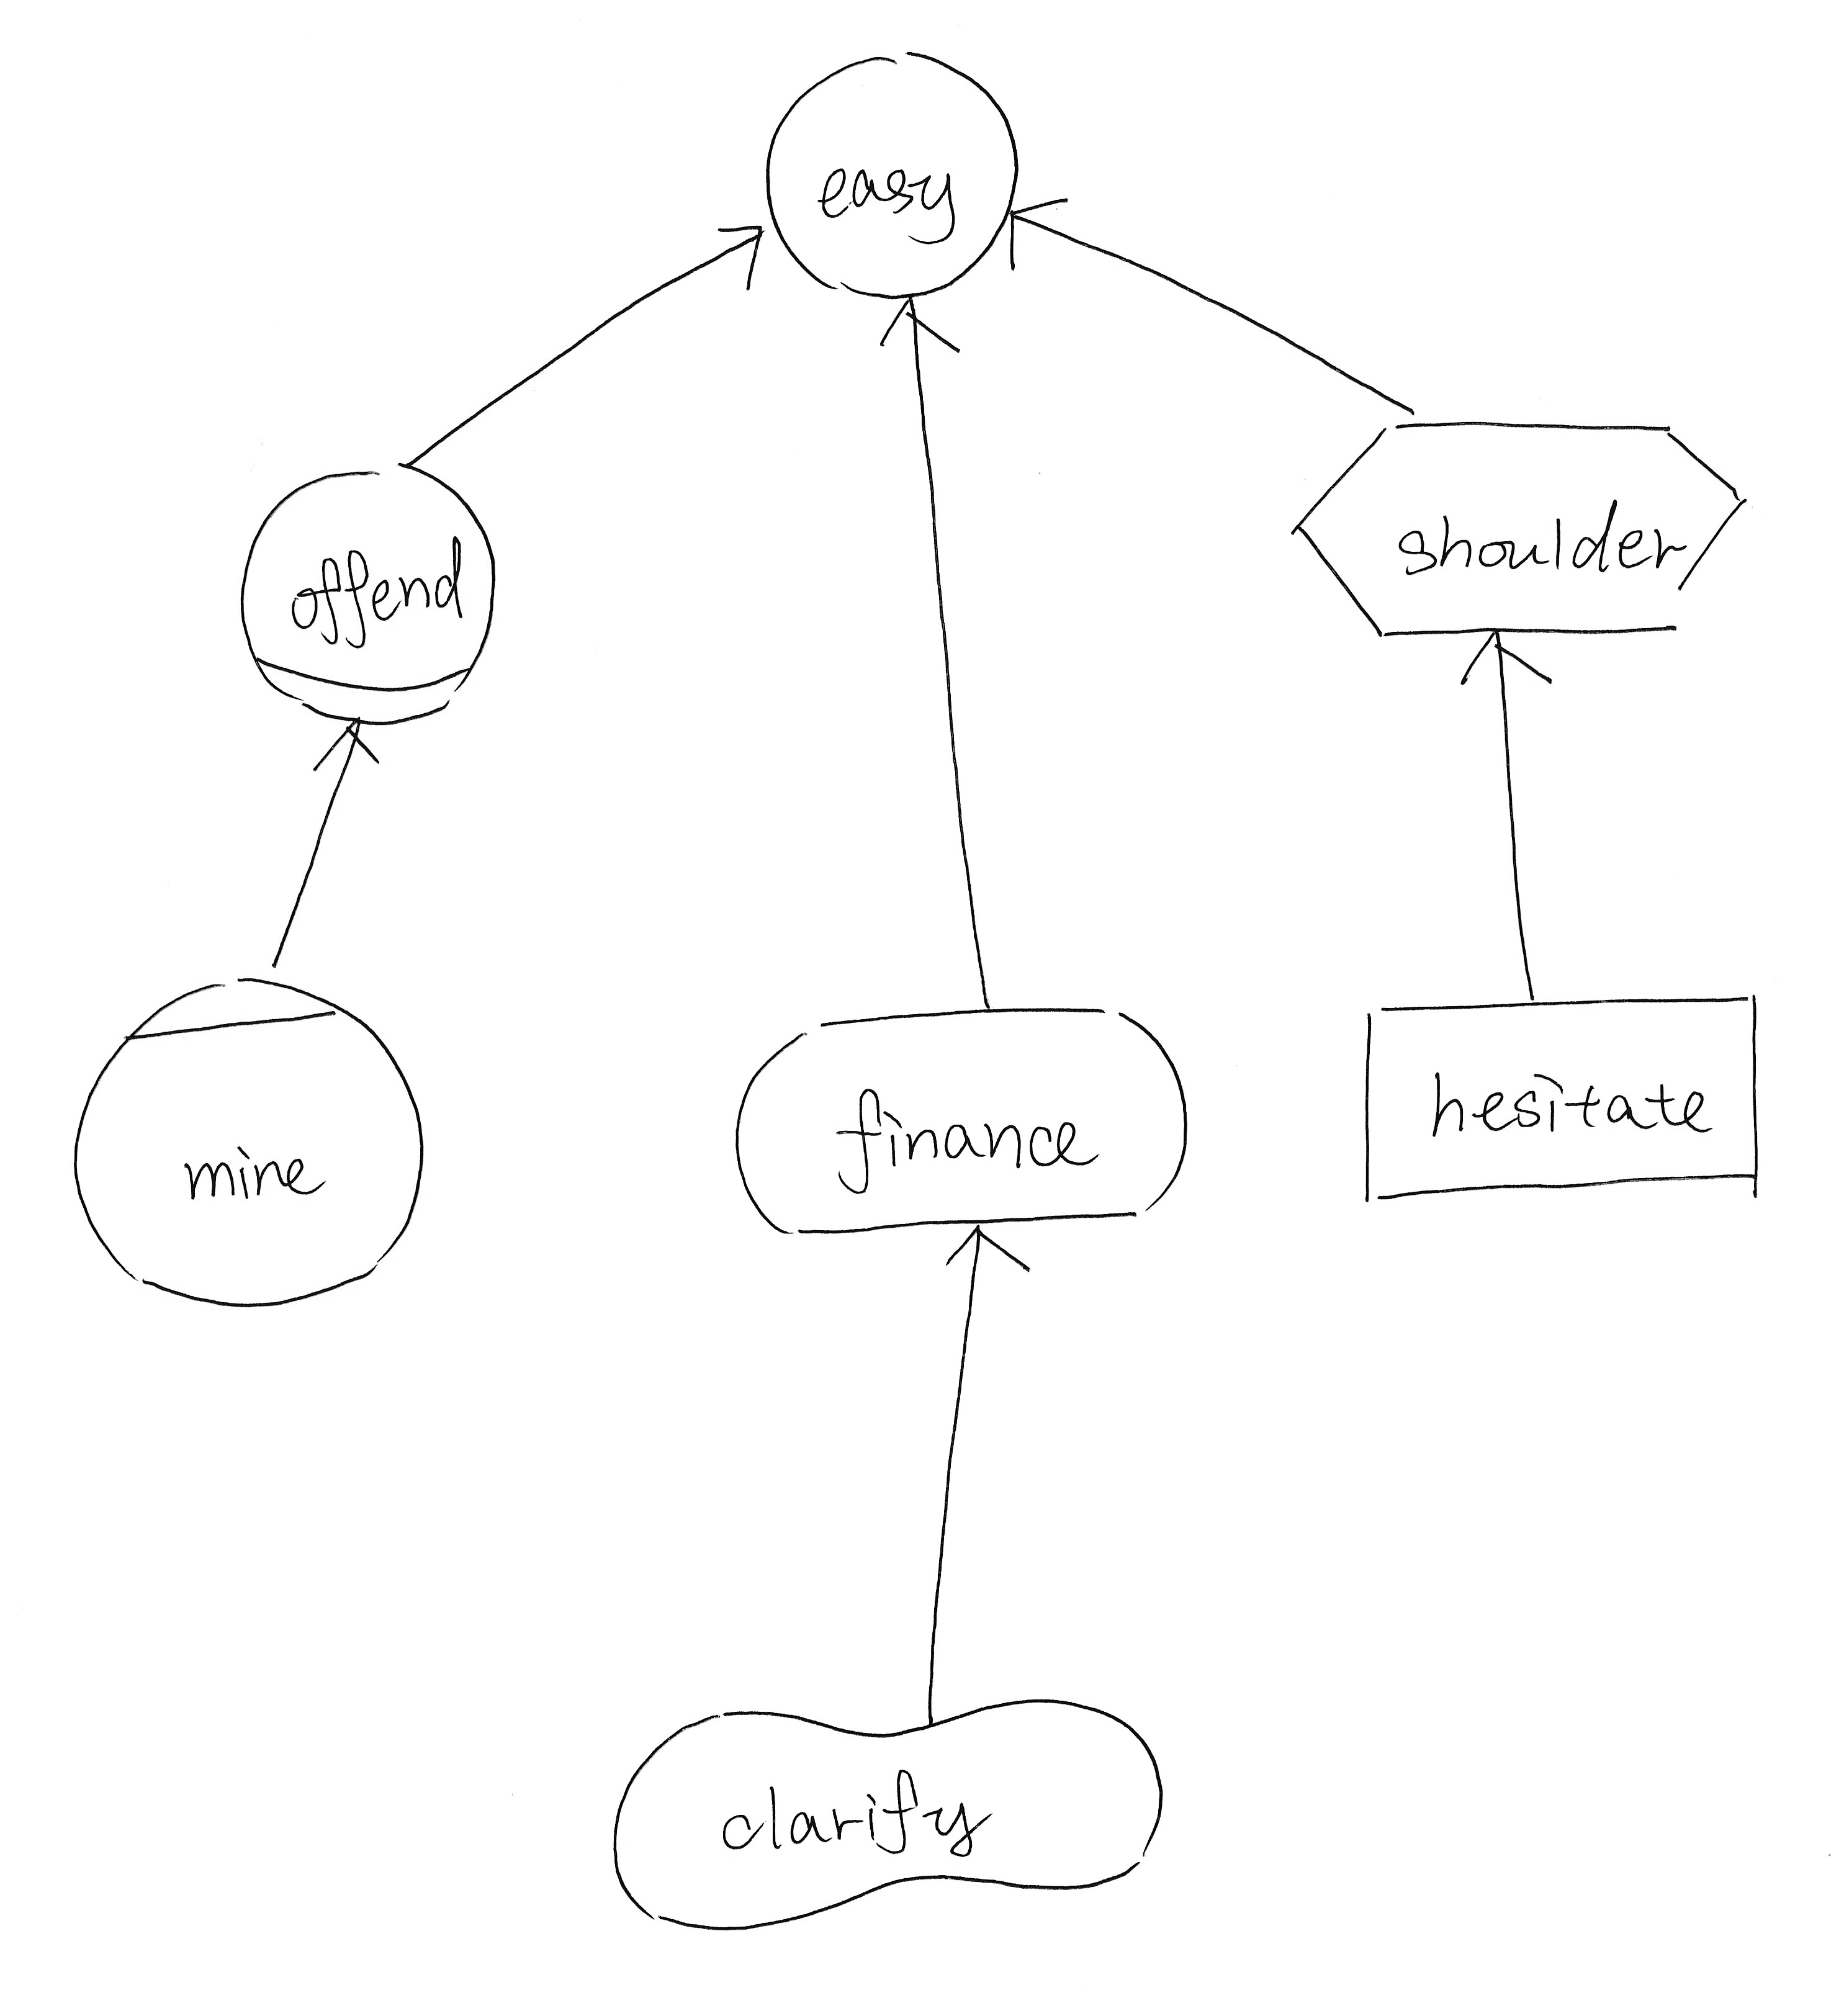actor: (746, 30, 1036, 318)
agent: (53, 957, 446, 1326)
arrow: (994, 181, 1084, 286), (1451, 625, 1563, 704), (933, 1219, 1040, 1296), (862, 288, 969, 364), (704, 198, 769, 313), (306, 713, 400, 787)
goal: (718, 980, 1203, 1247)
quality: (594, 1679, 1180, 1946)
resource: (1342, 976, 1779, 1217)
role: (223, 444, 511, 745)
task: (1271, 390, 1760, 653)
